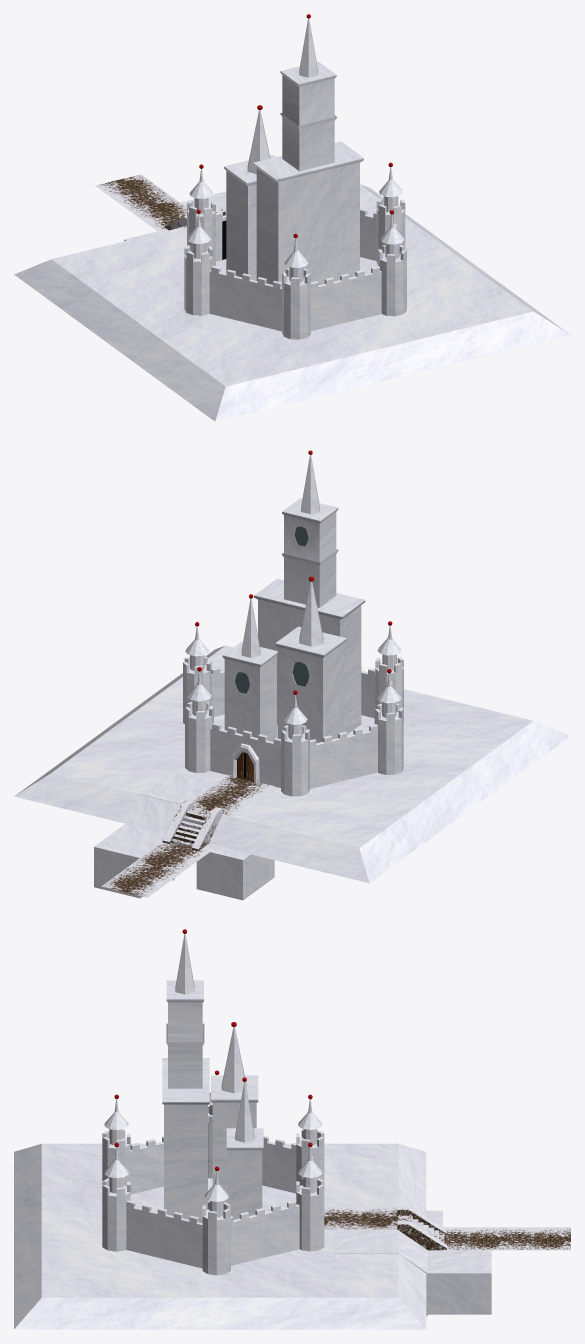
File: SnowyCastle.fbx
3 views of the same model, one above another, from view 1: azimuth 30°, elevation 25°; view 2: azimuth 150°, elevation 25°; view 3: azimuth 270°, elevation 25° (orthographic). The views are drawn at different scales.
Parts seen in each view (by area): view 1: pCube1, polySurface31, polySurface37, polySurface66, polySurface29, polySurface69, polySurface68, polySurface10, polySurface64, pPlane5, pPlane6, polySurface4 (+4 smaller); view 2: pCube1, polySurface29, polySurface31, polySurface37, polySurface34, pCube44, pCube93, pCube92, pCube52, polySurface7, pCube49, polySurface10 (+13 smaller); view 3: pCube1, polySurface31, pCube92, polySurface70, polySurface37, pCube45, polySurface34, polySurface29, polySurface4, polySurface6, polySurface64, pCube44 (+12 smaller).
Part boxes in pixels (x1,y1,x2,y2): pCube1: (14,184,570,421); polySurface31: (252,141,363,284); polySurface37: (280,61,336,171); polySurface66: (209,265,281,331); polySurface29: (224,154,275,280); polySurface69: (311,266,381,330); polySurface68: (282,267,310,339); polySurface10: (184,243,213,315); polySurface64: (378,243,406,316); pPlane5: (95,174,171,208); pPlane6: (126,197,186,231); polySurface4: (376,196,405,264); pCube1: (14,645,570,883); polySurface29: (275,626,346,742); polySurface31: (254,578,365,734); polySurface37: (281,498,338,607); polySurface34: (222,642,277,741); pCube44: (310,724,377,788); pCube93: (196,843,274,900); pCube92: (94,824,165,898); pCube52: (210,723,280,787); polySurface7: (281,724,309,796); pCube49: (162,800,222,850); polySurface10: (374,702,403,774); pCube1: (14,1143,426,1329); polySurface31: (162,1058,209,1222); pCube92: (427,1250,491,1314); polySurface70: (126,1200,202,1268); polySurface37: (166,980,204,1088); pCube45: (231,1200,299,1265); polySurface34: (226,1128,263,1219); polySurface29: (211,1075,258,1203); polySurface4: (202,1201,230,1275); polySurface6: (296,1177,324,1251); polySurface64: (102,1177,130,1251); pCube44: (262,1135,296,1193).
Bounding box in the file's own units: 126 × 119 × 167.
